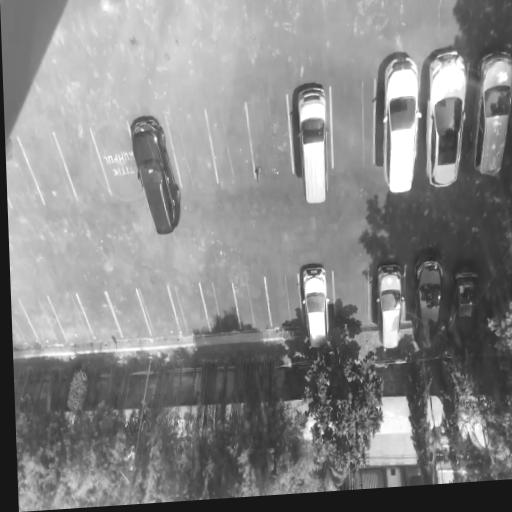Car: (127, 112, 188, 238), (423, 50, 471, 187), (469, 45, 512, 181), (382, 54, 420, 193), (295, 84, 330, 208), (441, 263, 483, 349), (409, 254, 445, 354), (300, 263, 333, 354), (375, 261, 404, 350)
Space Available: (17, 133, 77, 205), (205, 98, 255, 182), (54, 127, 111, 200), (245, 94, 293, 179), (165, 112, 218, 187), (90, 122, 143, 195), (331, 83, 375, 167), (5, 141, 44, 208), (18, 293, 67, 346), (47, 294, 95, 344), (105, 286, 150, 338), (76, 290, 122, 339), (137, 286, 181, 336), (168, 283, 210, 335), (265, 273, 303, 327), (200, 281, 240, 331), (333, 271, 368, 327), (232, 279, 271, 328), (12, 299, 39, 348)
